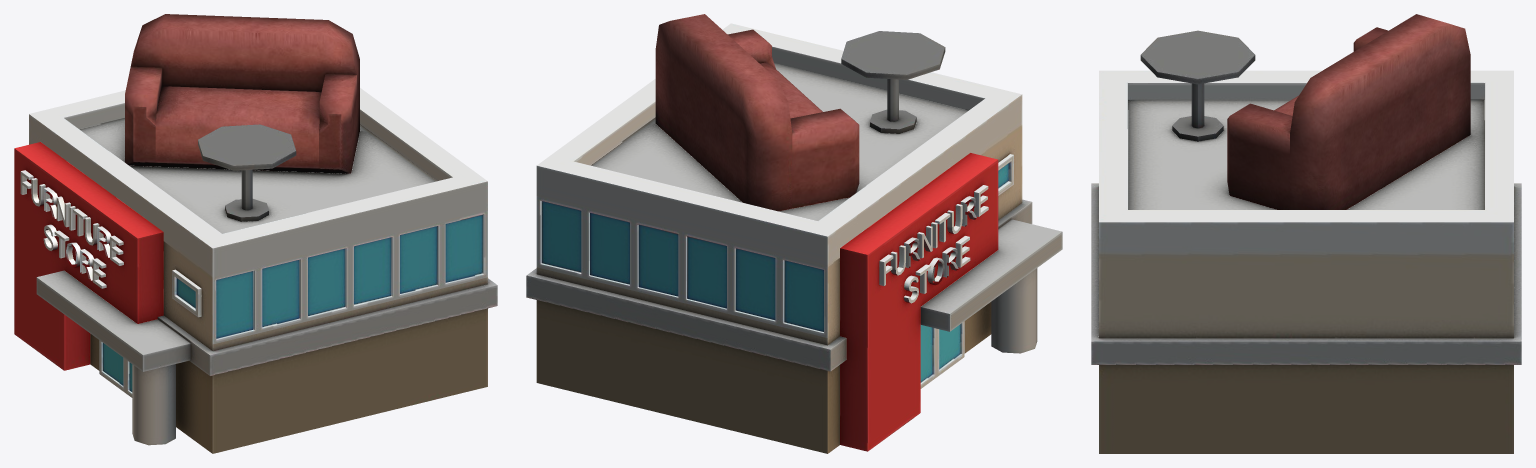
The model's file is Furniture store.glb.
3 views of the same model, side by side, from view 1: azimuth 30°, elevation 25°; view 2: azimuth 150°, elevation 25°; view 3: azimuth 270°, elevation 25° (orthographic). The views are drawn at different scales.
Visible parts, largest first — view 1: Box002; view 2: Box002; view 3: Box002.
Part boxes in pixels (x1,y1,x2,y2): Box002: (14, 14, 497, 453); Box002: (526, 14, 1062, 453); Box002: (1091, 14, 1521, 453).
Bounding box in the file's own units: 6.47 × 5.53 × 6.38.
1 material, 1 textured.
